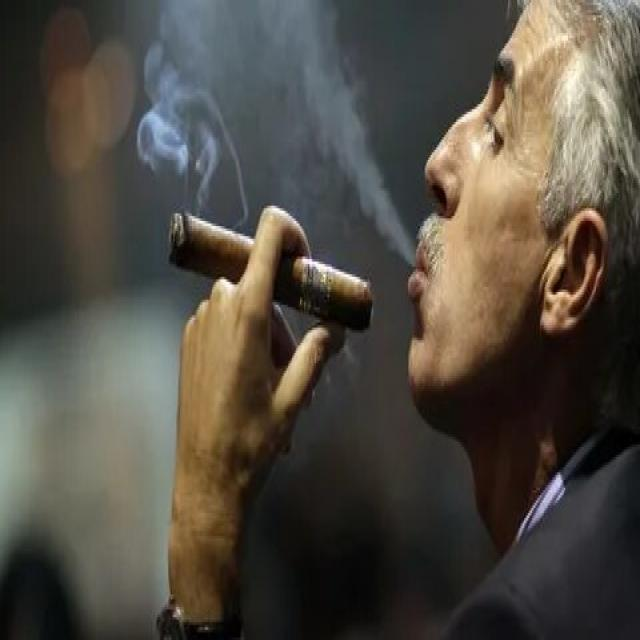cigarette: (164, 198, 379, 338)
